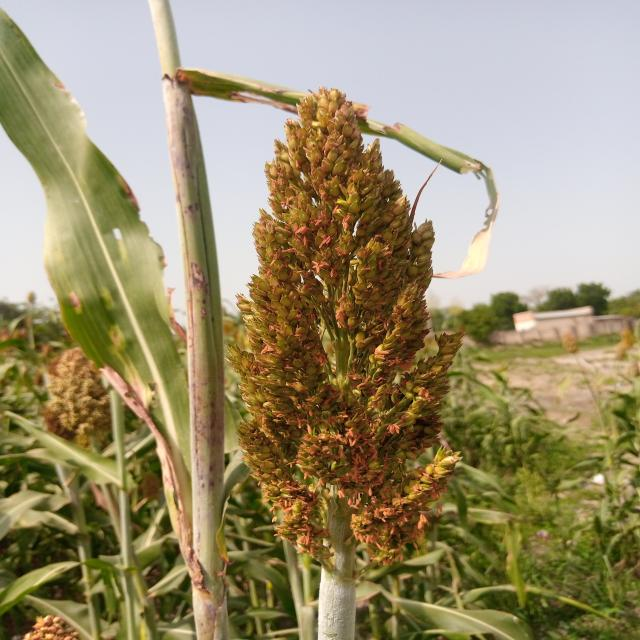UnripeSorghum: (198, 79, 516, 574)
